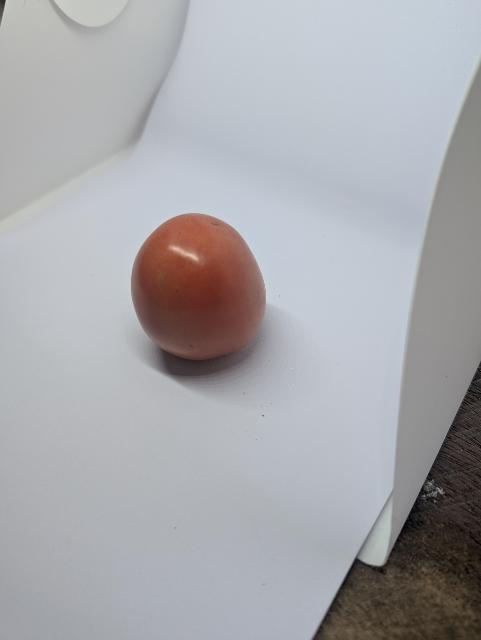red: (105, 201, 281, 387)
